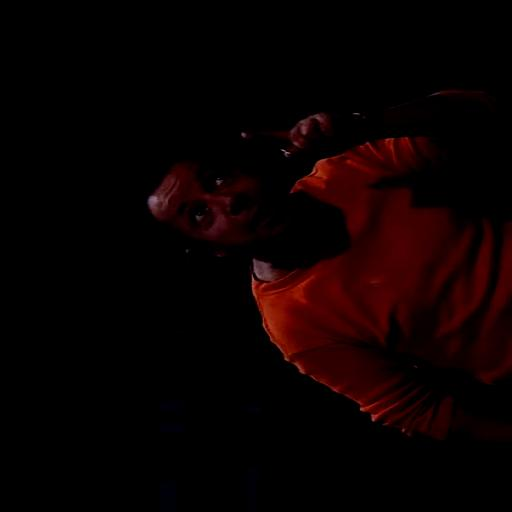fouchika: (119, 147, 309, 268)
